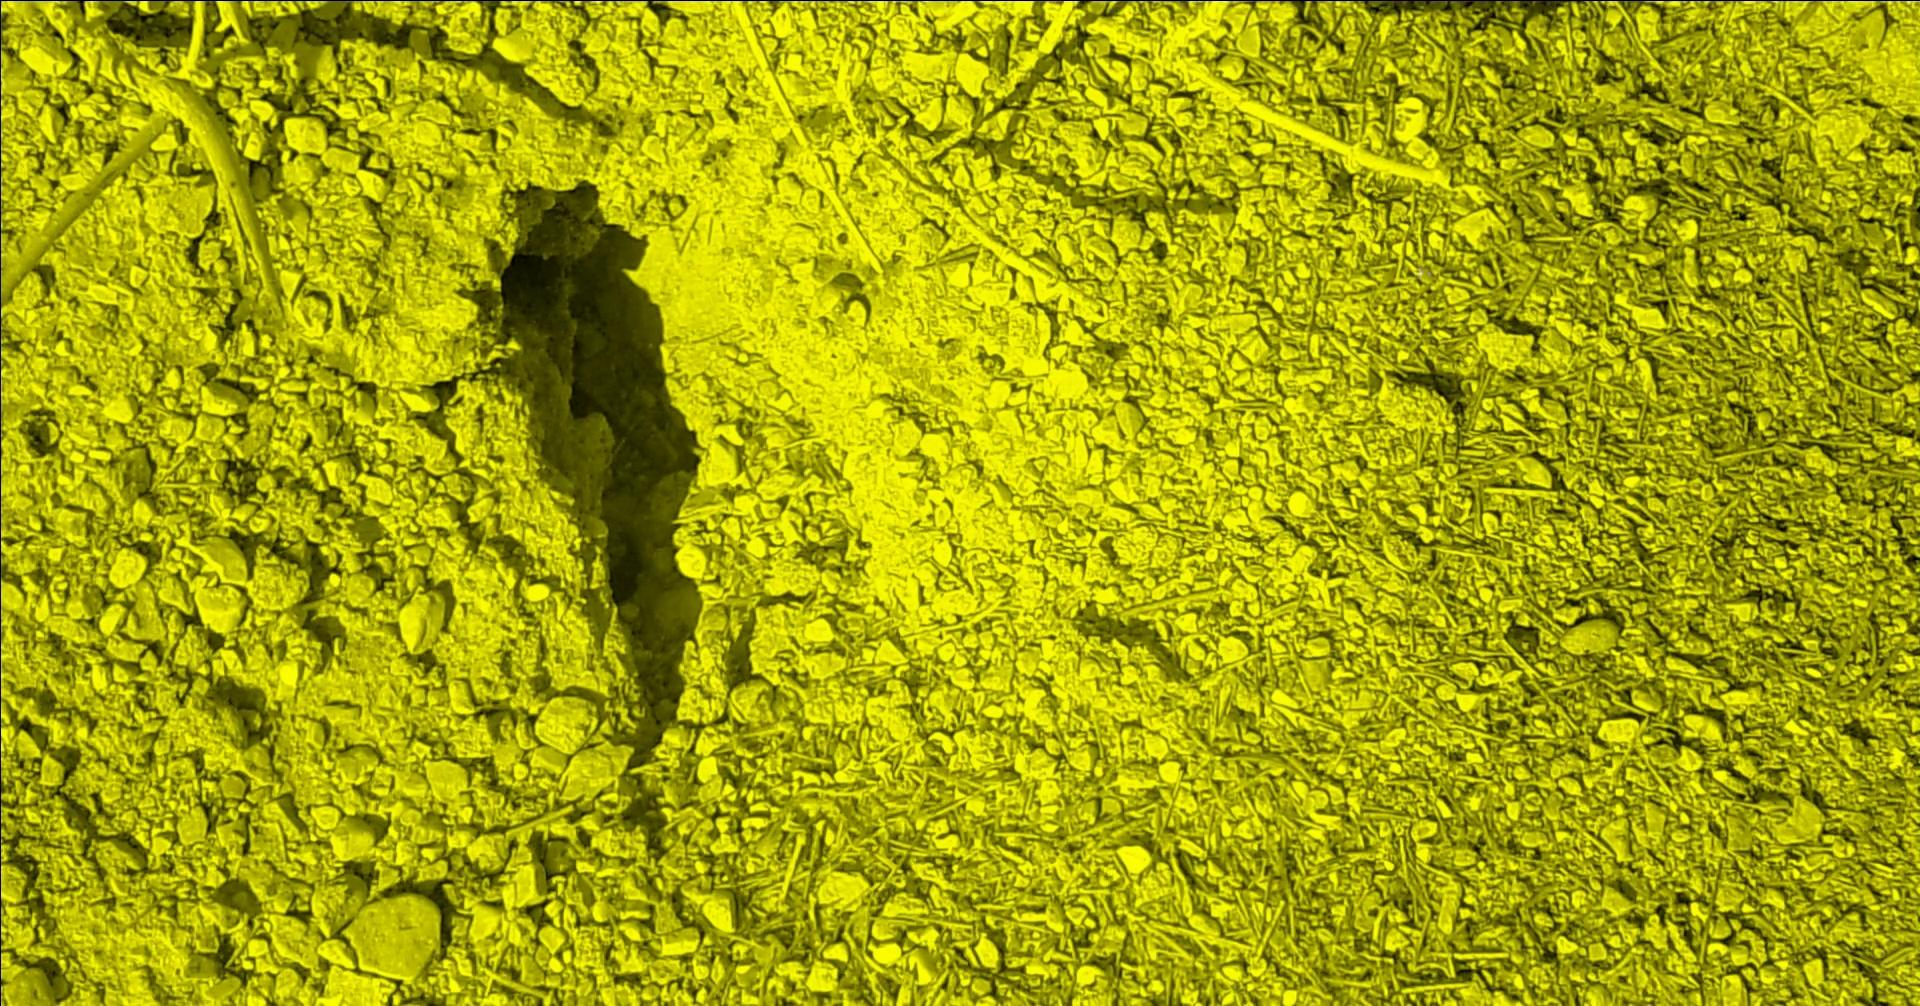ant: (1415, 0, 1468, 3)
